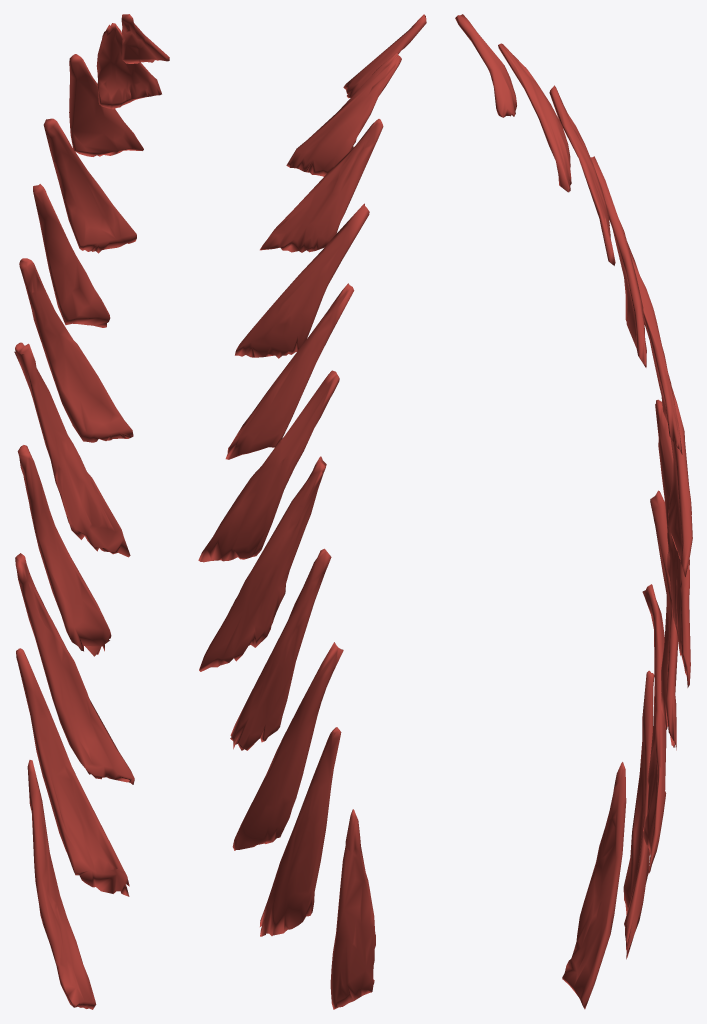
Rendered from musculos-levatores-longi-costarum-l.glb.
3 renders of one model, left to right at view 1: azimuth 30°, elevation 25°; view 2: azimuth 150°, elevation 25°; view 3: azimuth 270°, elevation 25°, orthographic. The views are drawn at different scales.
Parts seen in each view (by area): view 1: Levatores longi costarum.l; view 2: Levatores longi costarum.l; view 3: Levatores longi costarum.l.
Boxes of the visible parts, x1=… form: Levatores longi costarum.l: x1=14, y1=14, x2=169, y2=1009; Levatores longi costarum.l: x1=198, y1=14, x2=426, y2=1009; Levatores longi costarum.l: x1=455, y1=14, x2=692, y2=1009.
Bounding box in the file's own units: 0.0472 × 0.3298 × 0.0725.
